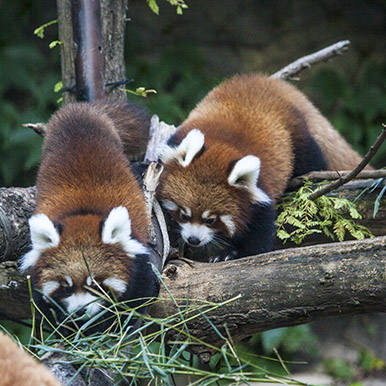red_panda: (159, 69, 368, 256), (30, 99, 167, 339)
